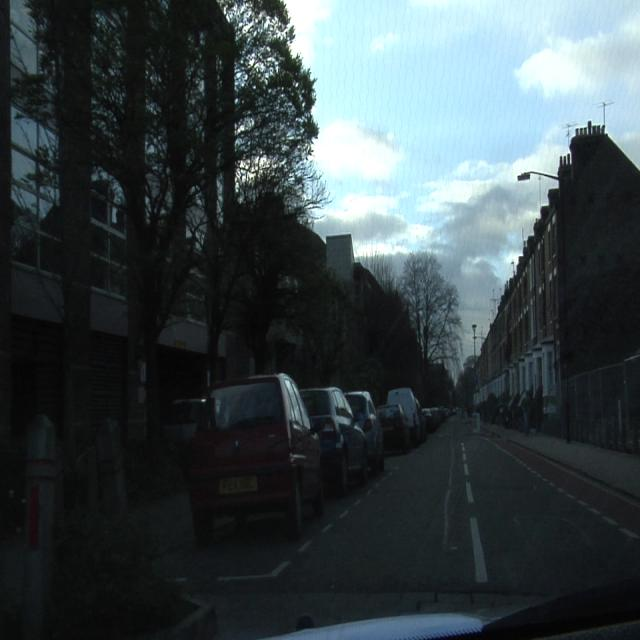Building: (0, 0, 128, 451), (478, 123, 639, 445)
Car: (186, 374, 321, 542), (301, 390, 383, 495), (380, 388, 426, 450), (424, 408, 440, 431)
Road: (285, 417, 640, 612)
Tree: (95, 0, 335, 386), (350, 253, 461, 402)
